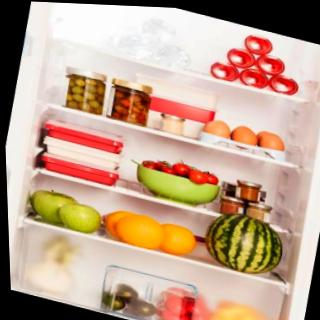Egg: (252, 128, 287, 155), (229, 121, 264, 148), (200, 116, 235, 143)
fruit: (111, 208, 168, 252), (27, 186, 78, 226), (156, 219, 203, 261), (59, 198, 108, 236)
